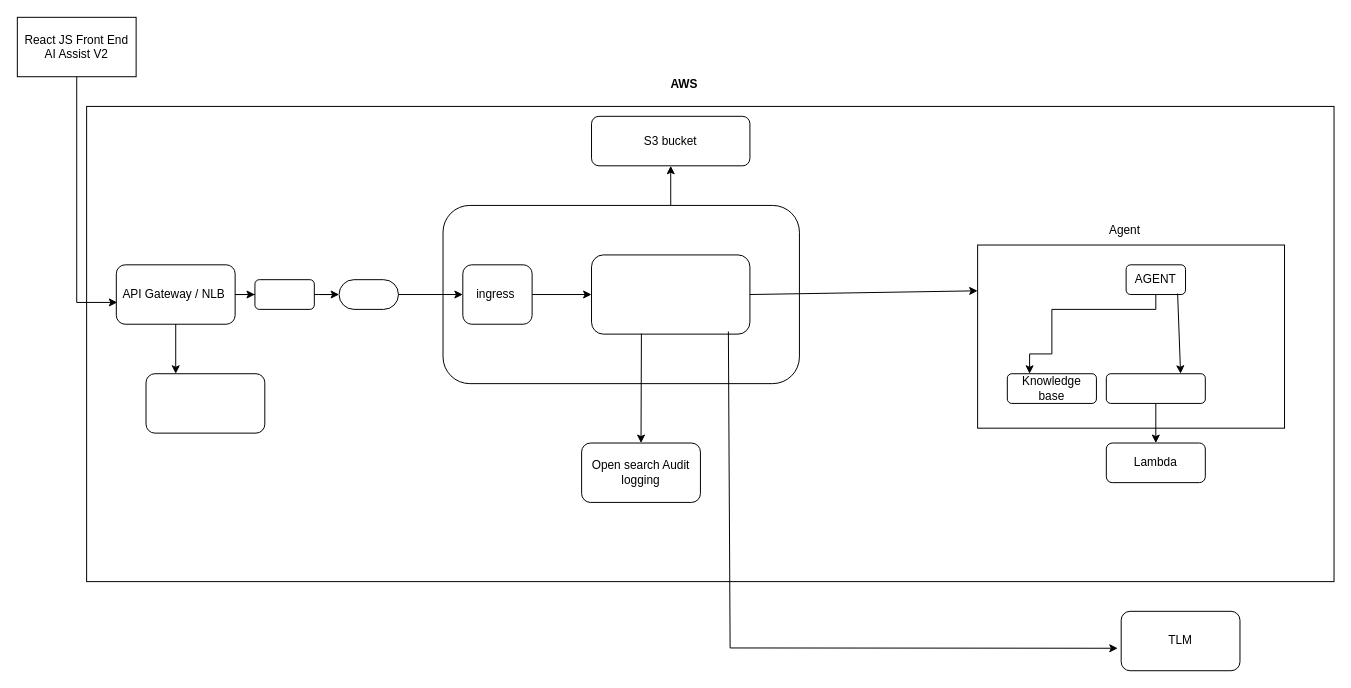
The diagram is 1351 pixels wide and 688 high, and some of its shapes have lost their labels. The shapes that lost their labels are listed below. From the top down, each one's centre as x and y in pixels, then its label:
At pixel 284 294: "VPC link".
At pixel 368 294: "NLB".
At pixel 670 294: "AI Assist Backend 1. Agent Invocation 2. Audit Logging 3. AI Assist graphql".
At pixel 205 403: "JWT validation".
At pixel 1155 388: "Agent Group".
